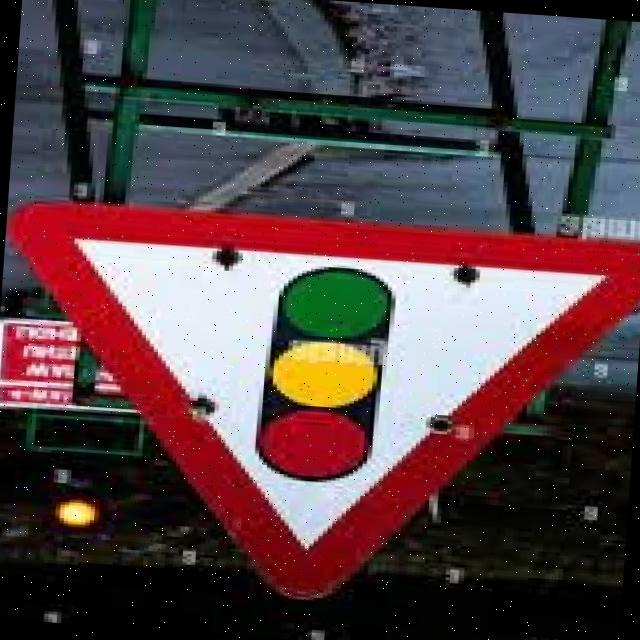light_traffic: (6, 195, 640, 603)
